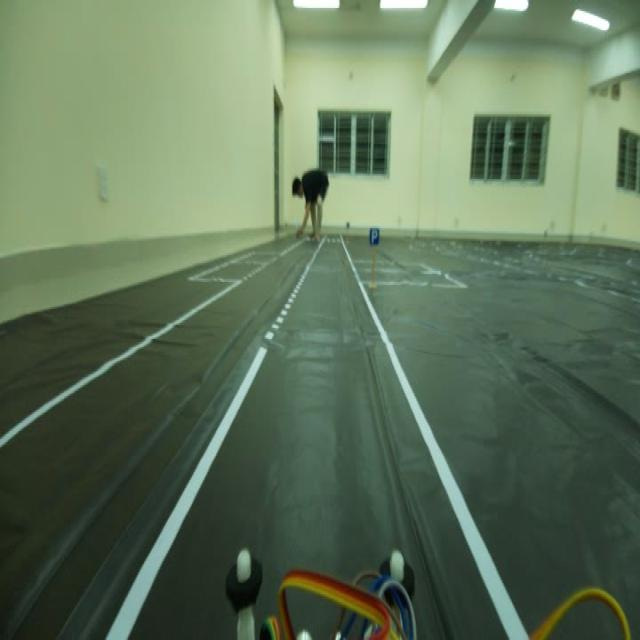parking: (366, 223, 382, 251)
